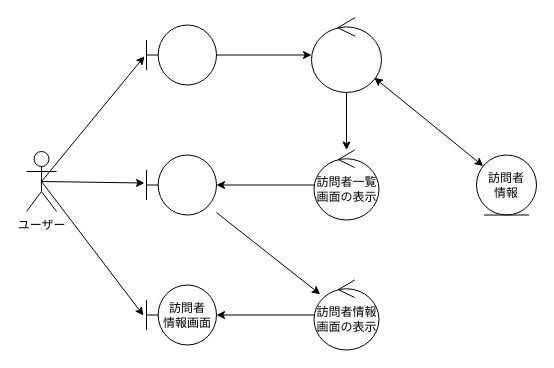
Image size: 554x368. Some labels were removed from this diagram. Each missing label, with the centre of its shape:
"メニュー画面" goes at pixel 181 54.
"訪問者 一覧画面" goes at pixel 181 184.
"訪問者情報 を取得" goes at pixel 346 54.
